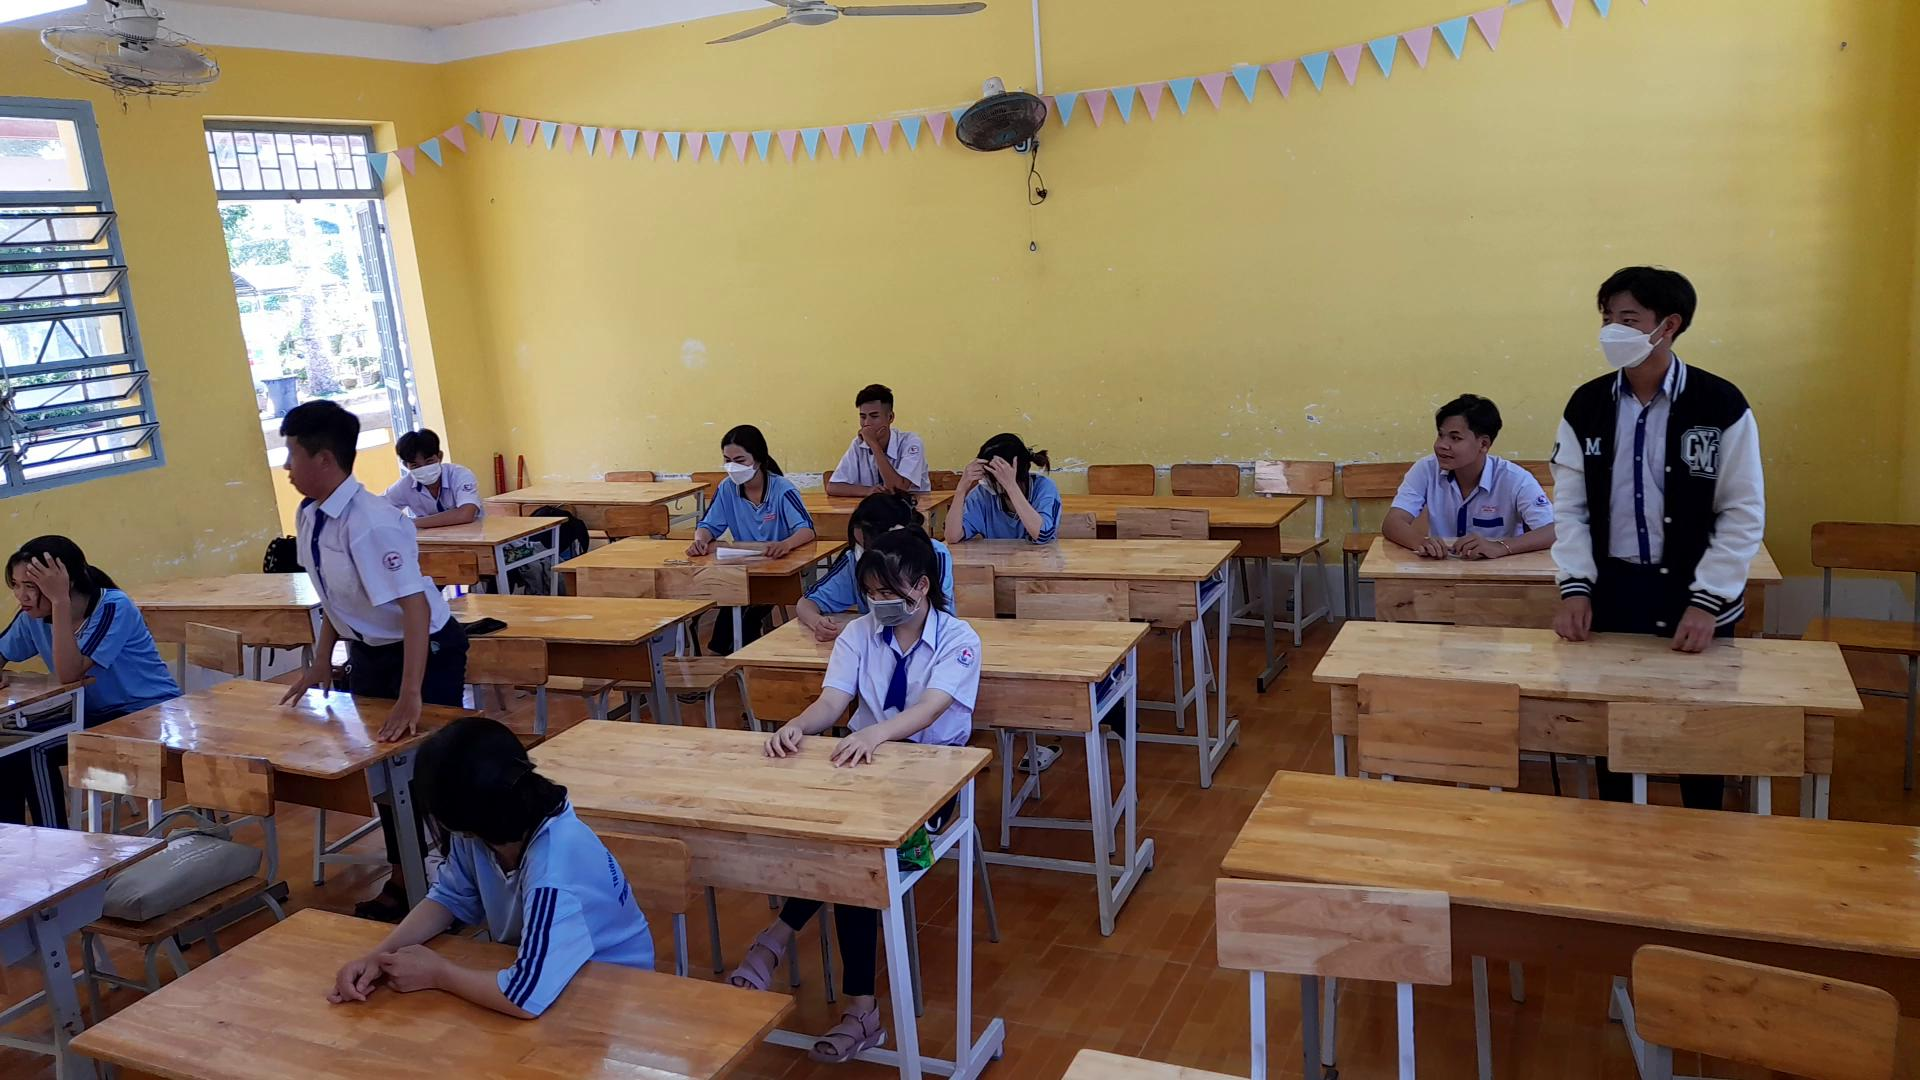Look Around: (386, 723, 564, 852), (1396, 384, 1509, 487)
Normal: (753, 521, 978, 767), (679, 421, 822, 560), (378, 411, 488, 521)
Stand Up: (1542, 257, 1766, 655), (273, 396, 475, 723)
Wave: (34, 555, 105, 694), (996, 454, 1065, 542), (942, 456, 984, 549)
